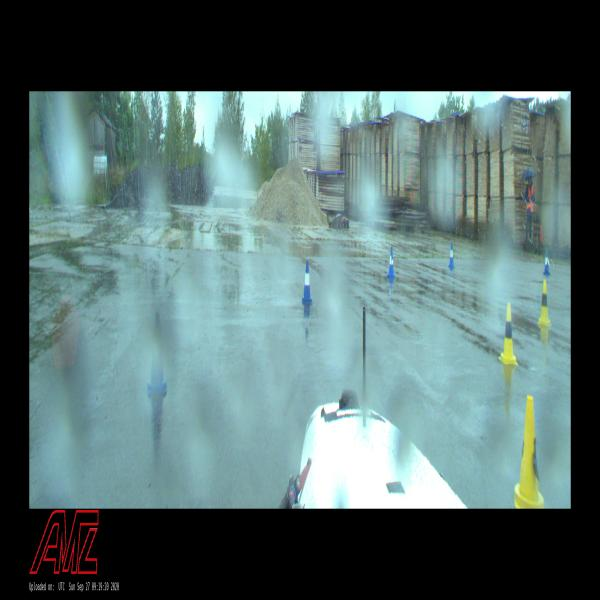blue_cone: (147, 312, 167, 394), (301, 262, 313, 303), (387, 246, 395, 278), (448, 242, 455, 268), (543, 250, 550, 274)
yellow_cone: (514, 395, 544, 509), (499, 303, 518, 365), (538, 280, 551, 325)
